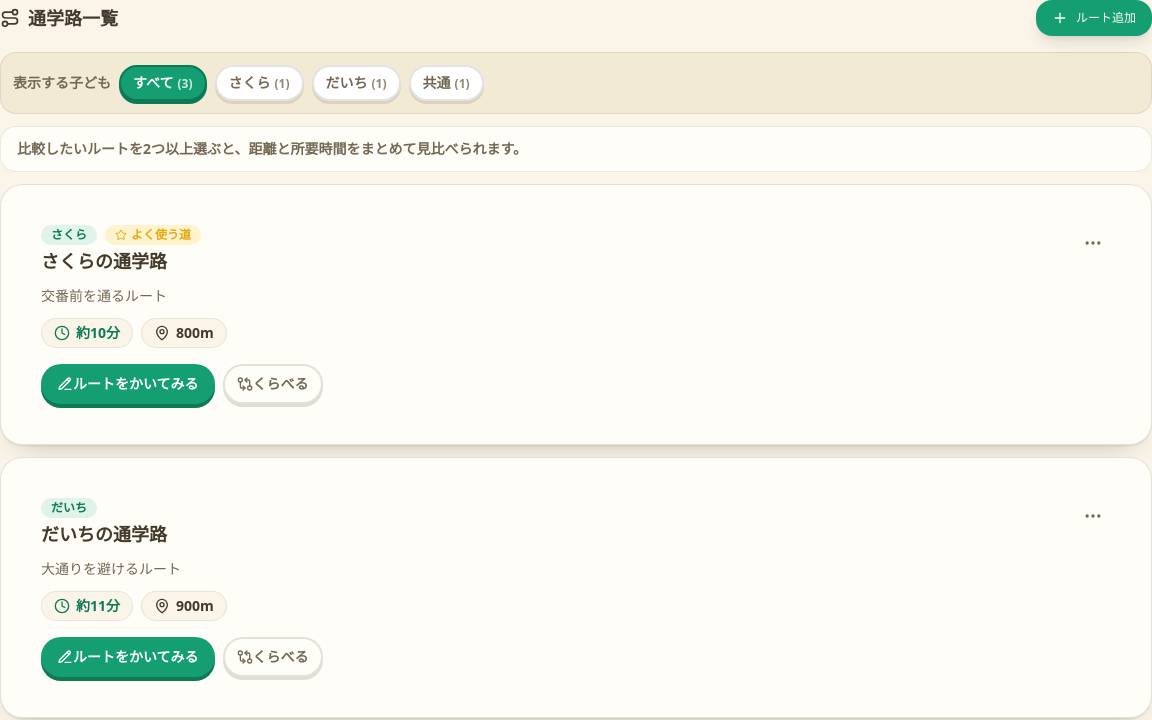
Test: RouteManager child filter › filters route cards by selected child
Expected: the element with test id "child-selector" is shown, 0,52 -> 1151,114
Click the button with aria-label "さくらを表示" at (259, 83), box 214,65 -> 304,101
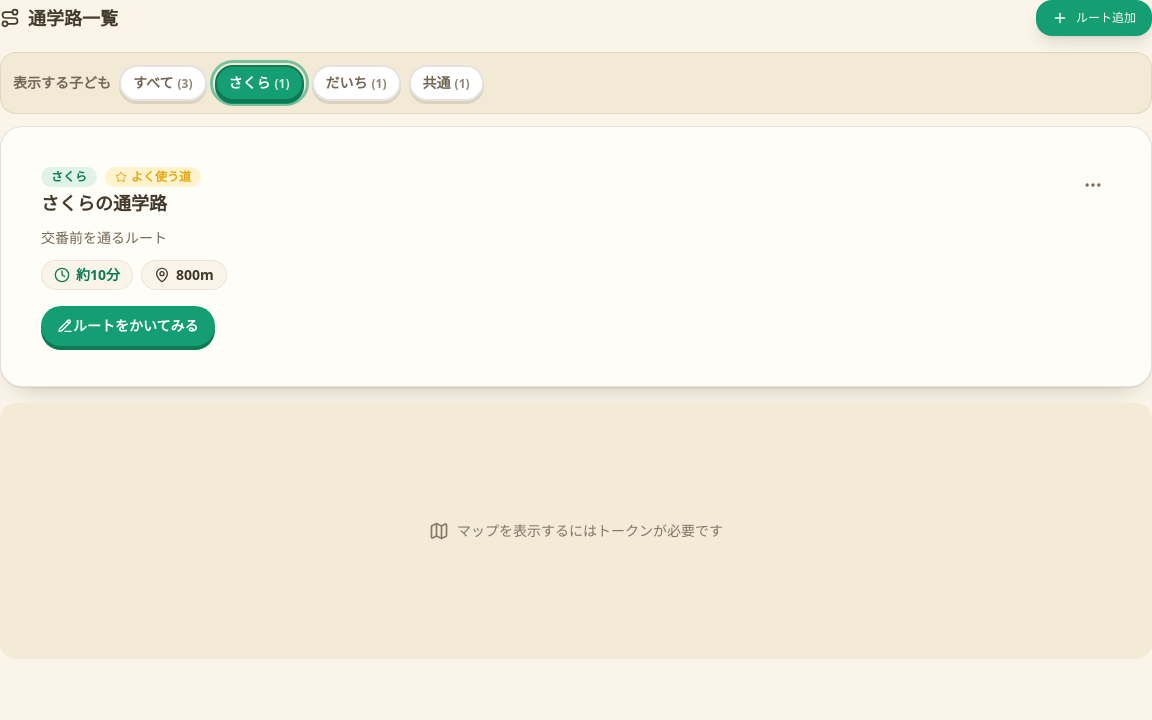
Expected: the heading "さくらの通学路" is shown, 41,191 -> 167,215
Expected: the number of elements with test id "route-card" is 1, 0,126 -> 1151,387
Expected: the heading "だいちの通学路" is gone
